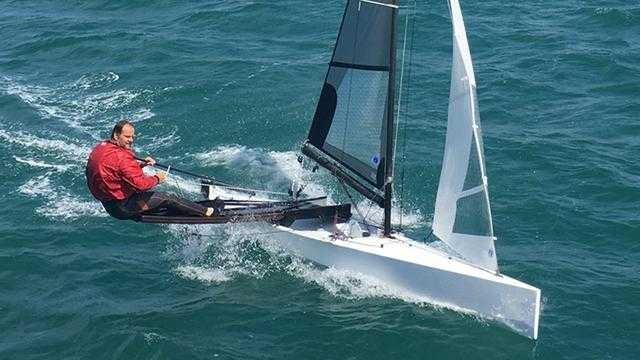kayak: (270, 0, 543, 342)
